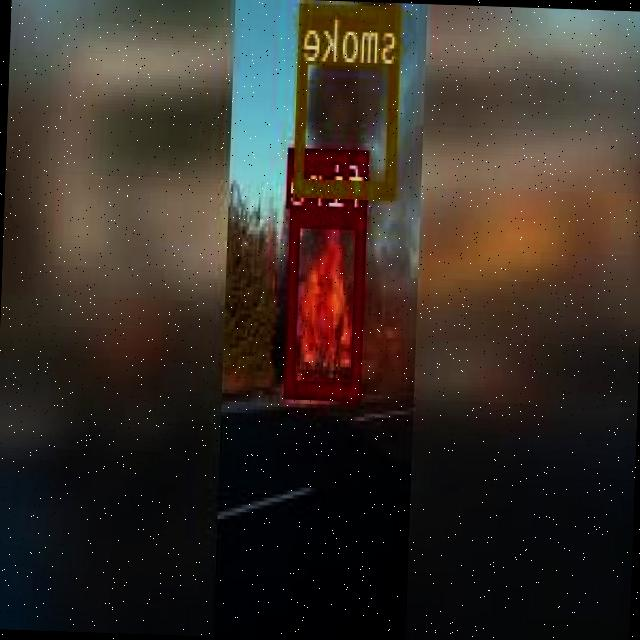fire: (286, 206, 368, 396)
smoke: (296, 0, 402, 195)
